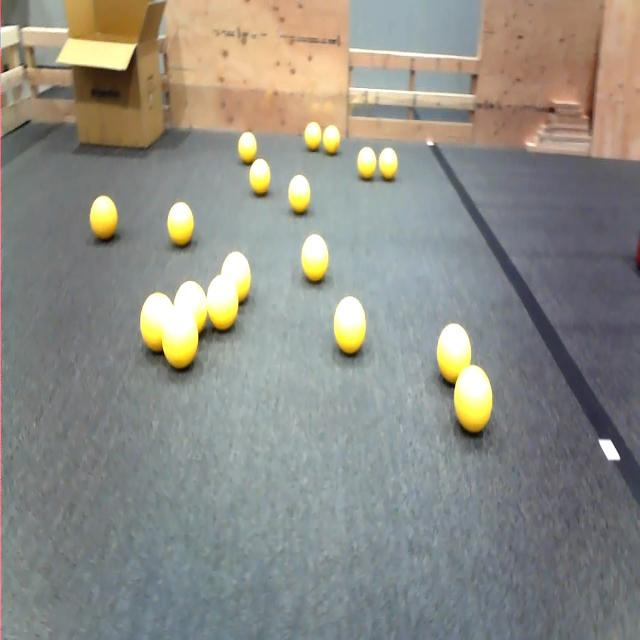fuel: (454, 366, 492, 433), (162, 305, 198, 369), (437, 323, 471, 383), (140, 292, 172, 352), (334, 296, 366, 355), (207, 274, 238, 331), (174, 280, 207, 332), (221, 251, 250, 303), (301, 234, 328, 282), (90, 195, 117, 240), (167, 201, 193, 246), (288, 174, 311, 214), (250, 159, 270, 195), (238, 132, 257, 164), (357, 147, 376, 179), (379, 148, 397, 180), (304, 121, 321, 151), (323, 125, 340, 155)
